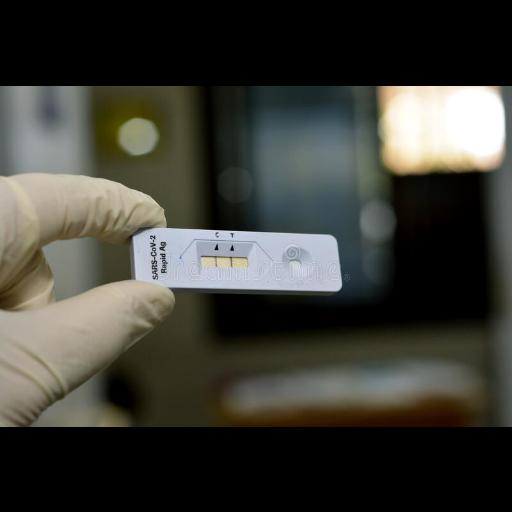Pos: (136, 226, 343, 290)
